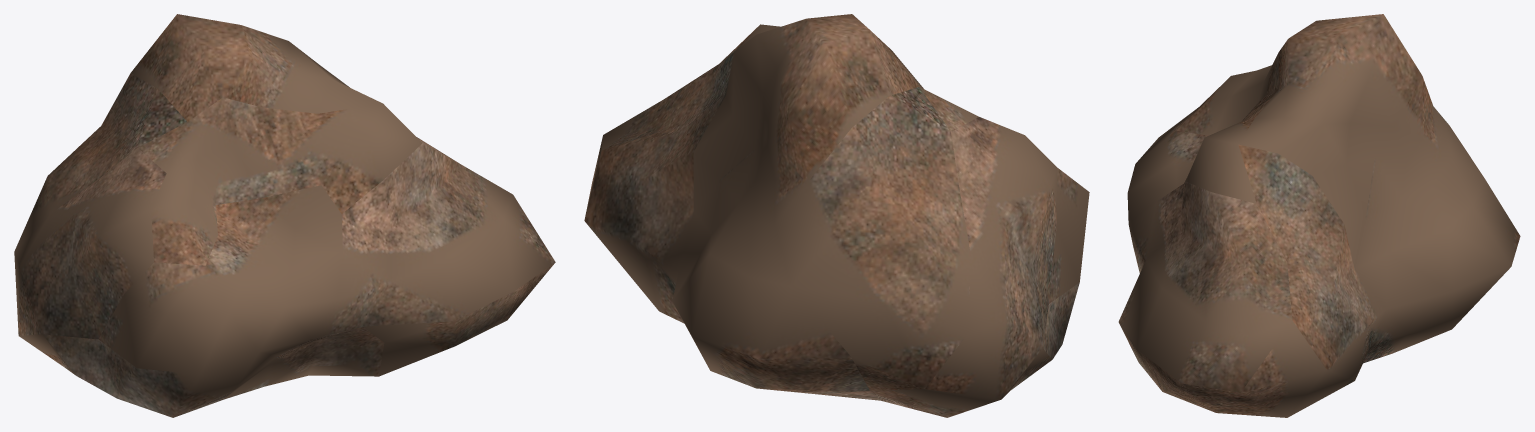
File: rock03.dae
3 views of the same model, side by side, from view 1: azimuth 30°, elevation 25°; view 2: azimuth 150°, elevation 25°; view 3: azimuth 270°, elevation 25° (orthographic). The views are drawn at different scales.
Visible parts, largest first — view 1: rock03; view 2: rock03; view 3: rock03.
Boxes of the visible parts, x1=… form: rock03: x1=14, y1=14, x2=555, y2=417; rock03: x1=584, y1=14, x2=1089, y2=417; rock03: x1=1118, y1=14, x2=1520, y2=417.
Size of the model in its own units: 2.74 by 2.15 by 1.88.
1 material, 1 textured.
